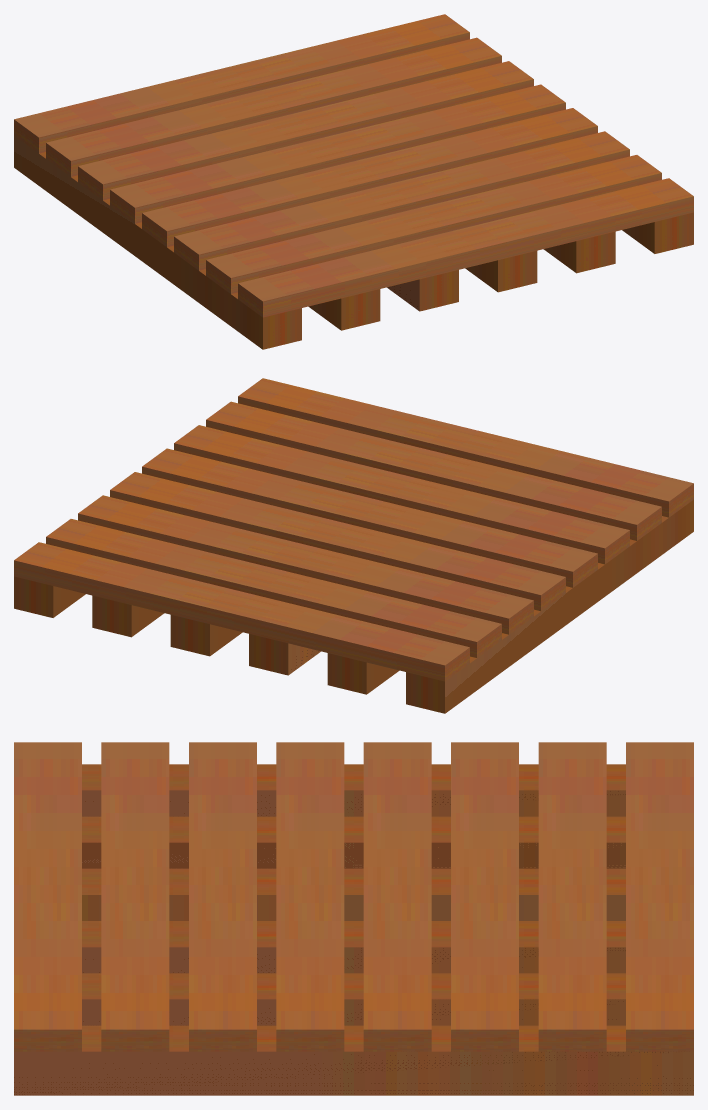
File: palette.gltf
3 views of the same model, one above another, from view 1: azimuth 30°, elevation 25°; view 2: azimuth 150°, elevation 25°; view 3: azimuth 270°, elevation 25° (orthographic). The views are drawn at different scales.
Parts seen in each view (by area): view 1: palette; view 2: palette; view 3: palette.
Part boxes in pixels (left/top/right/bottom): palette: left=14, top=14, right=693, bottom=349; palette: left=14, top=378, right=693, bottom=713; palette: left=14, top=742, right=693, bottom=1095.
Bounding box in the file's own units: 2.8 × 0.3 × 2.8.
